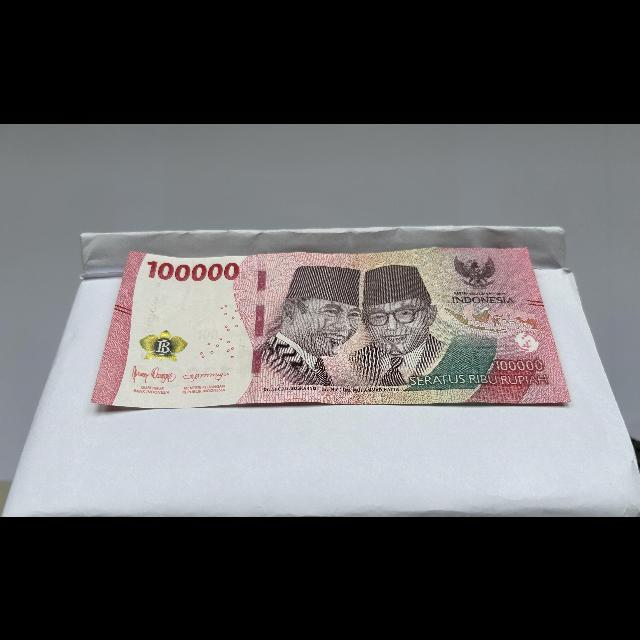Asli-100k: (86, 242, 576, 408)
Tinta-Asli-100k: (132, 328, 193, 362)
